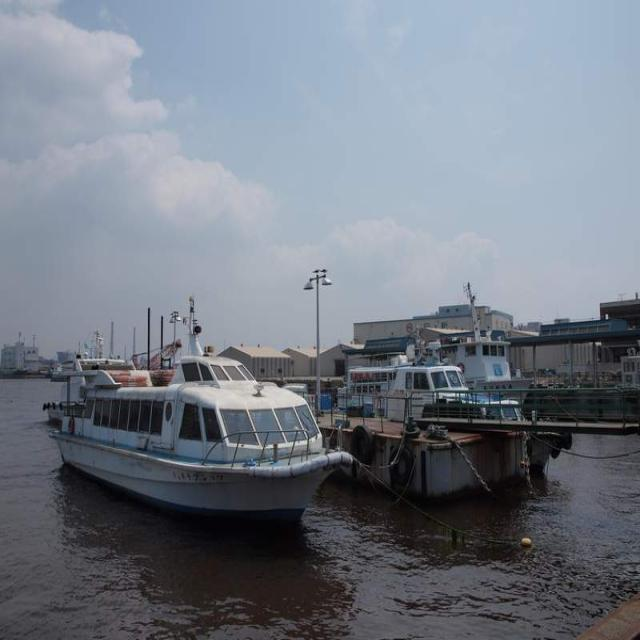houseboat: (27, 319, 349, 558)
